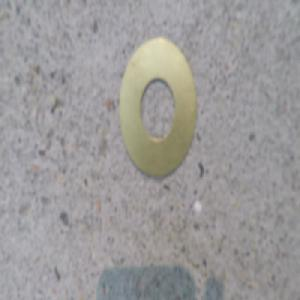Washer: (116, 36, 195, 176)
